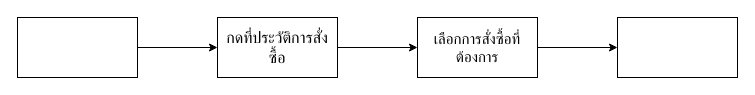
Image size: 755x95. Some labels were removed from this diagram. The shapes that lost their labels are listed below. From the top down, each one's centre as x and y in pixels, then its label:
the point at 77,47: ดูประวัติการสั่งซื้อ
the point at 677,47: รายงานปัญหาถ้าเกิดไม่ได้รับของ
